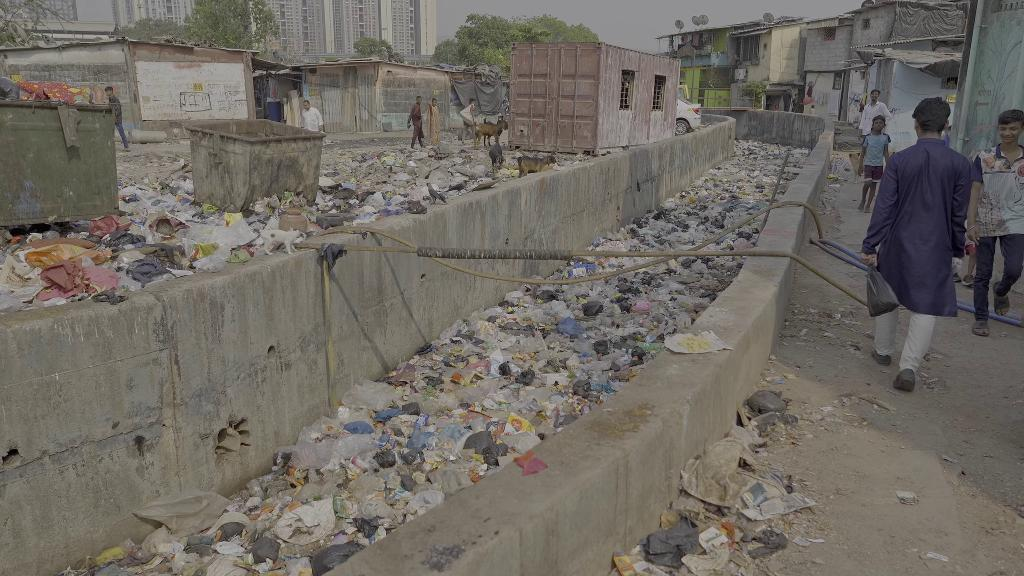dustbin: (0, 103, 129, 230), (182, 120, 326, 208)
garbage: (181, 219, 259, 250), (339, 378, 400, 411), (243, 537, 283, 568), (348, 469, 383, 503), (333, 431, 378, 457), (500, 409, 535, 442), (552, 315, 586, 339), (477, 440, 510, 464), (350, 514, 382, 537), (408, 425, 436, 450), (119, 539, 145, 560), (579, 299, 604, 317), (438, 392, 461, 411), (406, 199, 430, 216), (513, 369, 537, 386), (573, 378, 592, 399), (378, 449, 397, 468), (349, 455, 371, 470), (548, 303, 568, 317), (593, 339, 610, 355), (412, 412, 430, 427), (257, 473, 281, 483), (498, 361, 514, 376), (680, 256, 697, 269), (574, 365, 588, 378), (591, 369, 604, 380)
